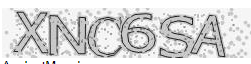6: (121, 12, 156, 54)
A: (190, 14, 226, 57)
C: (87, 16, 122, 57)
N: (47, 14, 87, 56)
S: (159, 15, 194, 58)
X: (13, 10, 49, 55)
